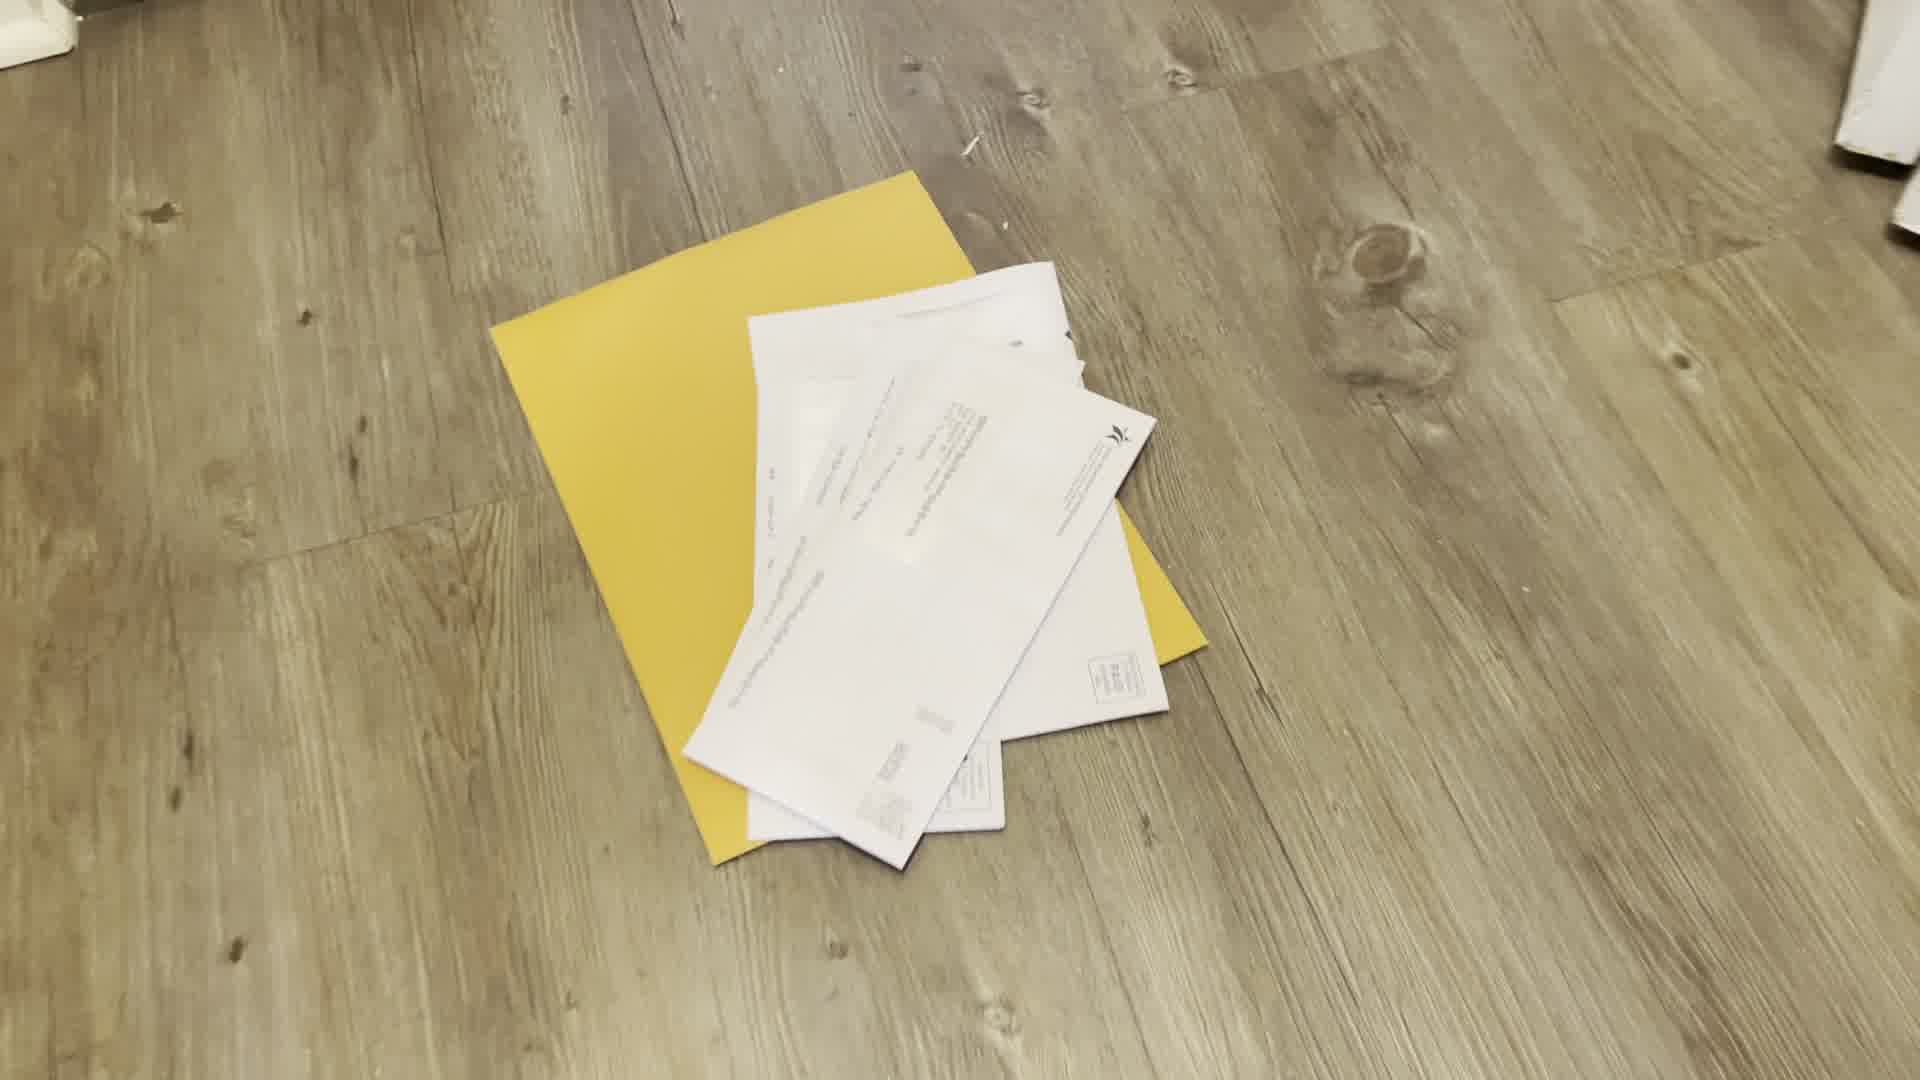envelope: (480, 157, 1215, 886), (675, 316, 1163, 877)
